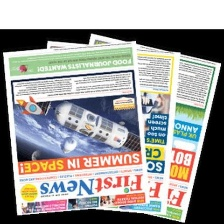news_paper: (77, 30, 223, 223), (0, 38, 150, 216), (41, 37, 184, 217)
